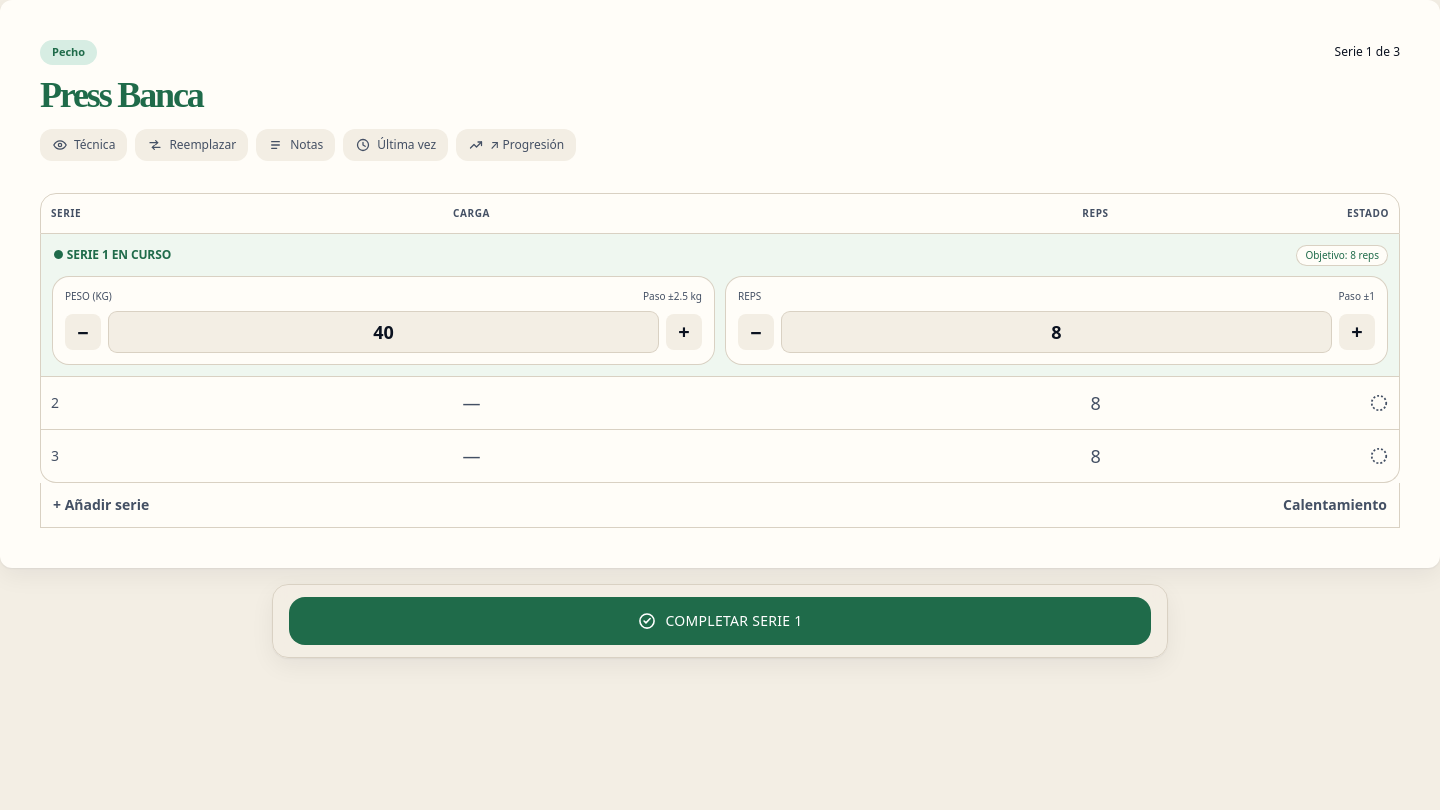
Test: GuidedExerciseCard › shows the honest empty state in the Última vez panel
Click the button with aria-label "Mostrar última vez".
click(396, 144)  # box [343,128,448,160]
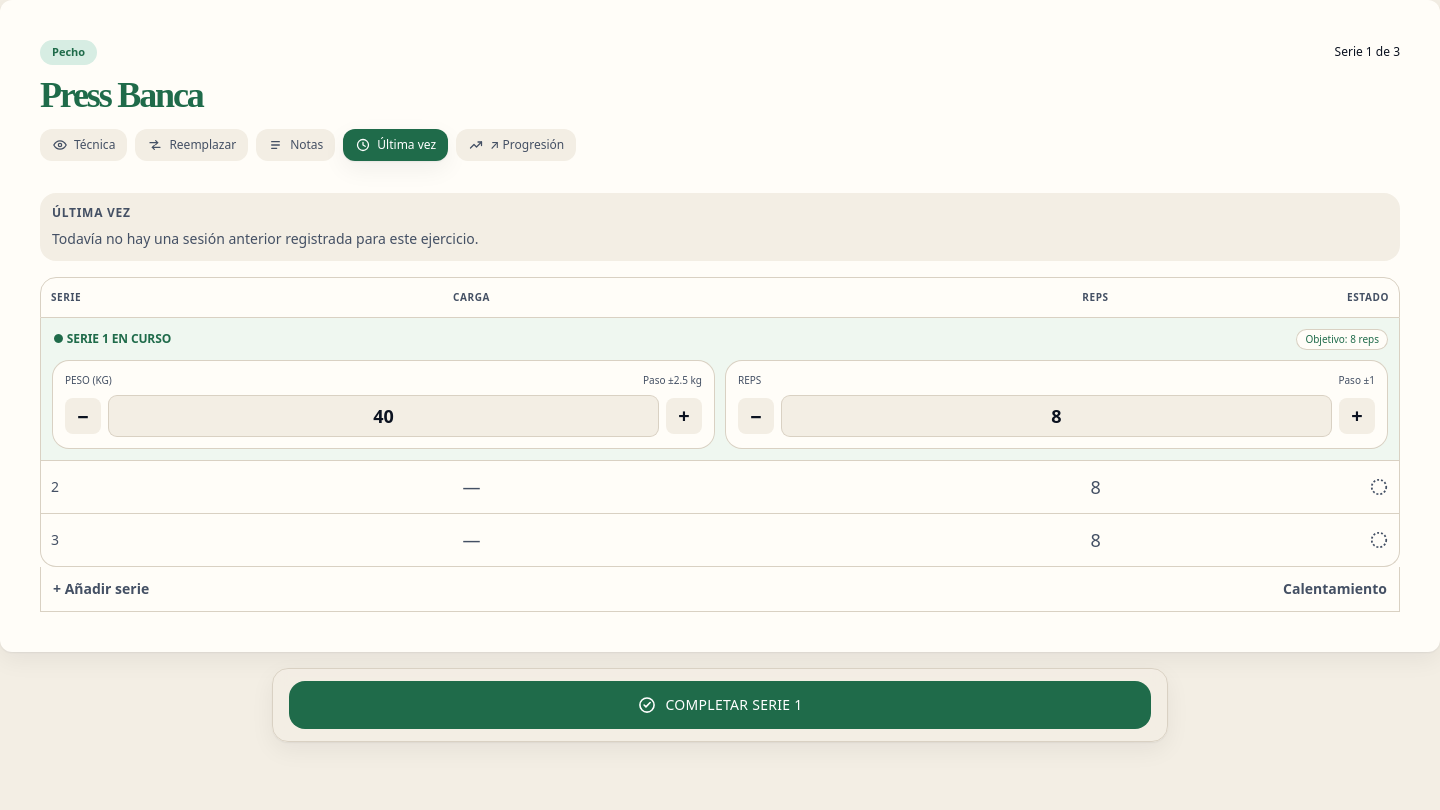
Result: the text "Todavía no hay una sesión anterior registrada para este ejercicio." is shown at [52,228,478,248]
